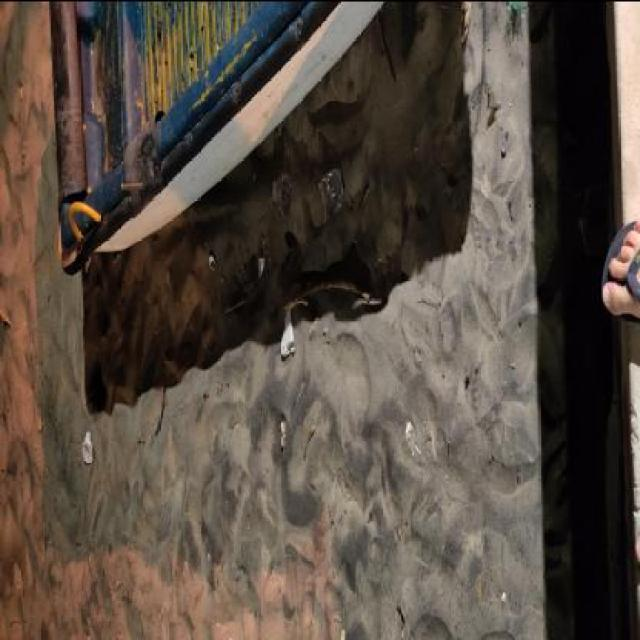plastic: (317, 166, 345, 222), (272, 170, 291, 216)
